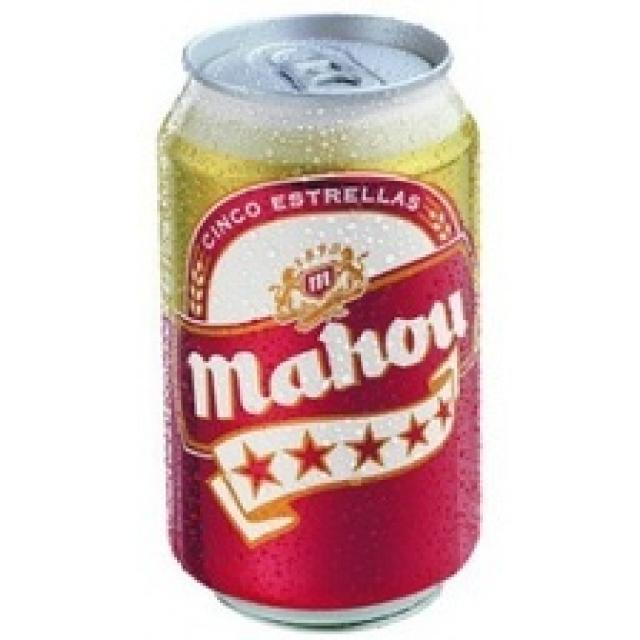recyclable: (160, 10, 480, 631)
